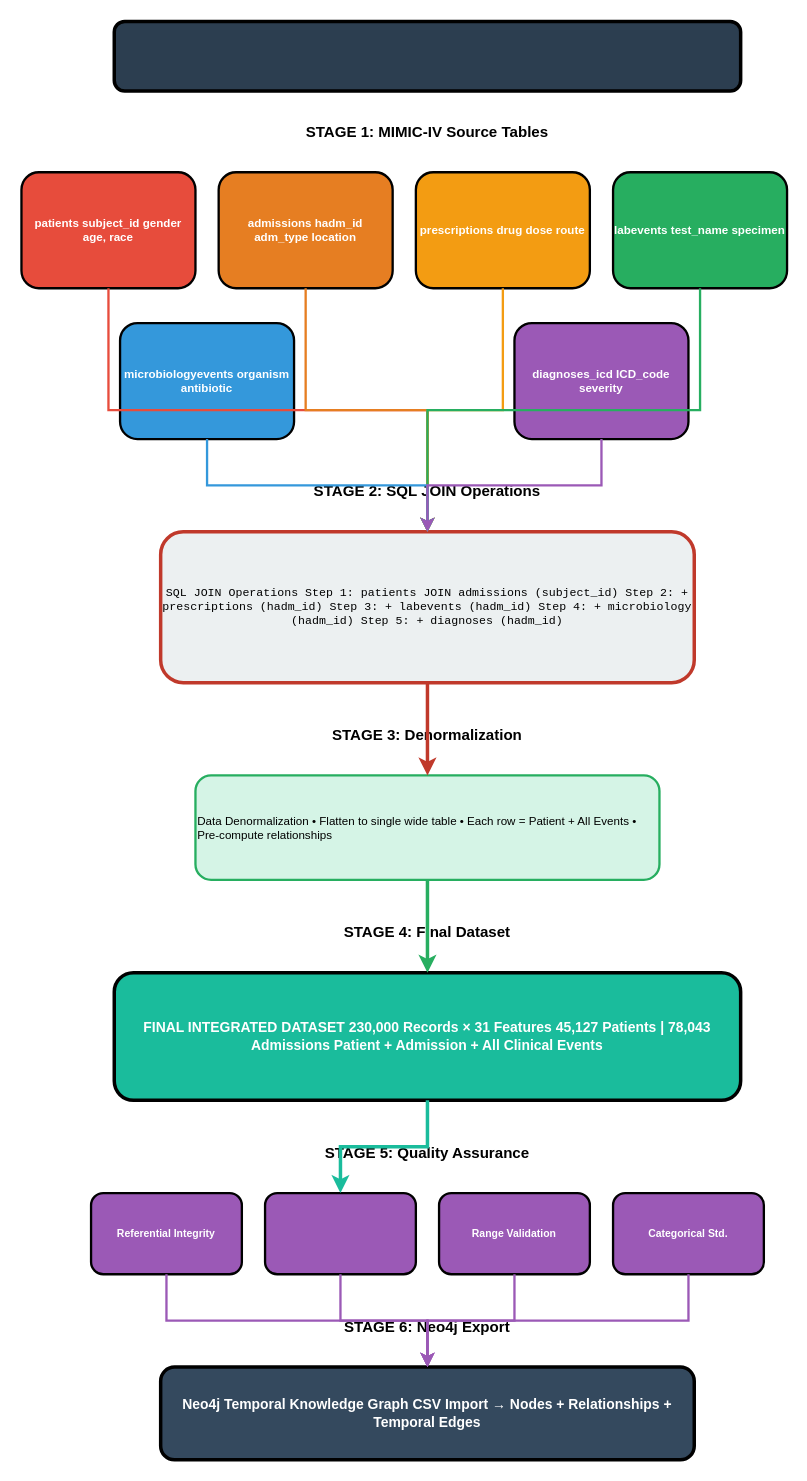
Some shapes in this 807 by 1481 pixel diagram are drawn without their labels. The shapes that lost their labels are listed below. From the top down, each one's centre as x and y in pixels, then its label:
At pixel 427 55: "MedQGraph Data Creation Pipeline".
At pixel 339 1233: "Deduplication".
